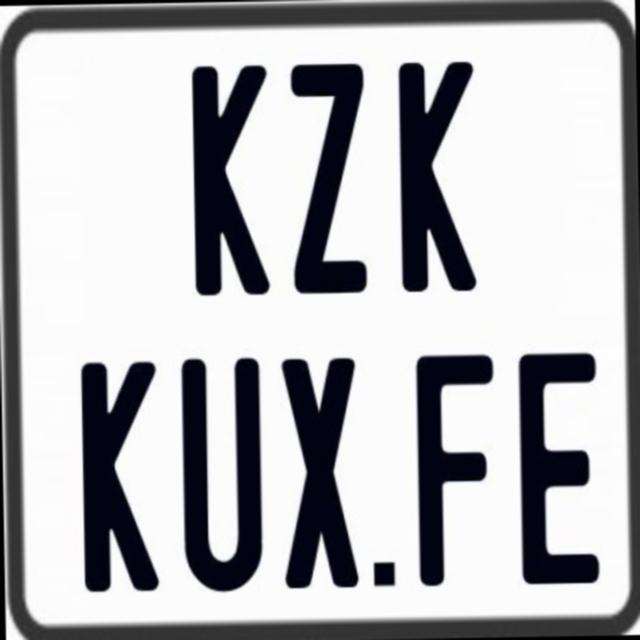E: (516, 349, 604, 589)
F: (414, 349, 499, 582)
K: (192, 61, 276, 296), (79, 358, 161, 593), (398, 56, 480, 288)
U: (179, 356, 261, 596)
X: (280, 353, 358, 586)
Z: (286, 61, 368, 302)
